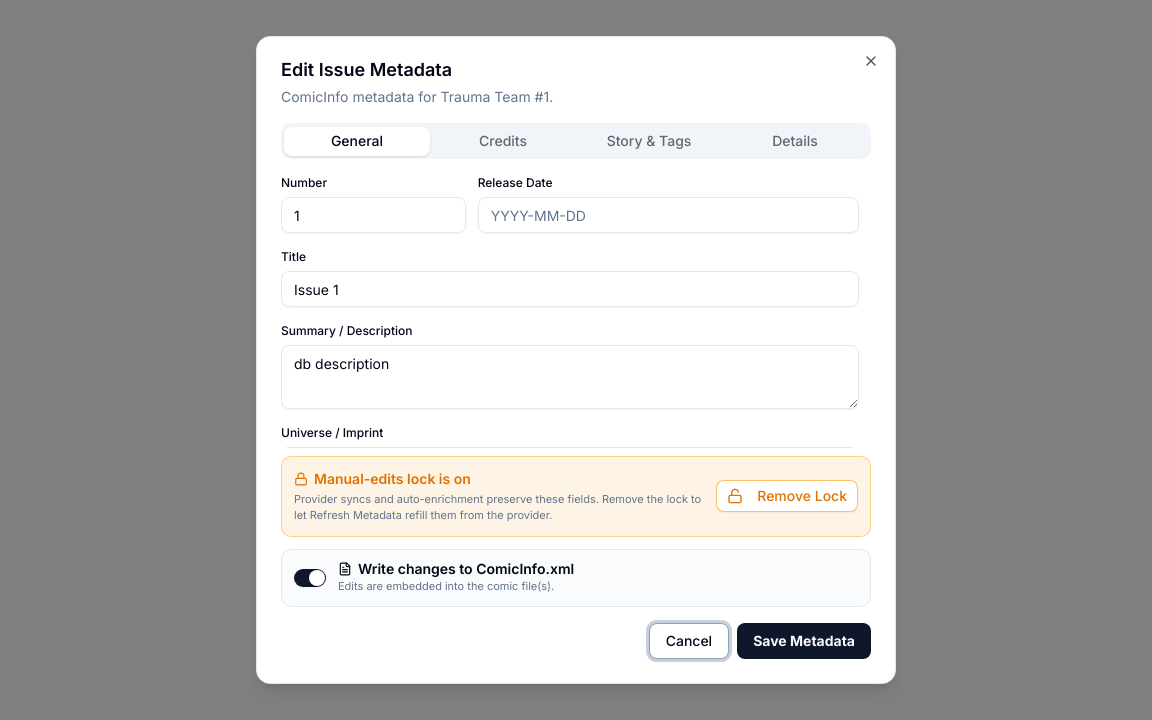
Test: Metadata editor lock affordance (issue #194 (f)) › shows the lock notice for a locked issue and unlocks via clearCustomMetadata
expect the text "Manual-edits lock is on" is shown: met, box [294, 470, 471, 486]
Click the button "Remove Lock".
click(787, 496)  # box [716, 480, 858, 512]
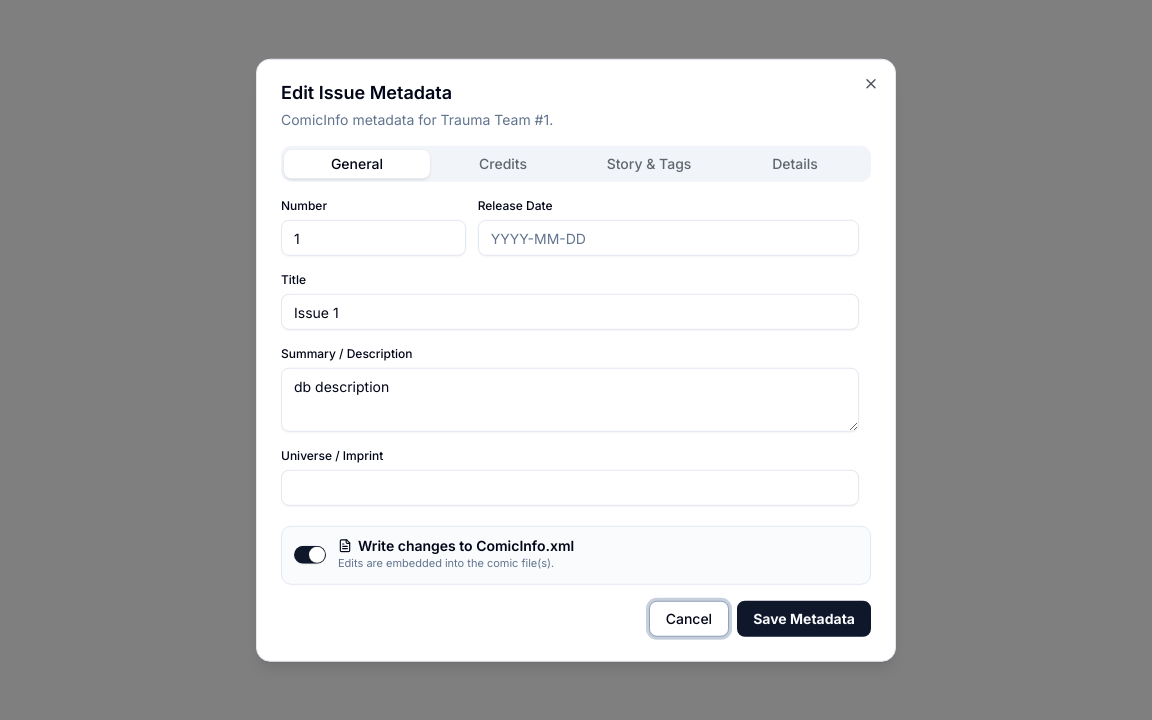
expect the text "Manual-edits lock is on" is gone: met
